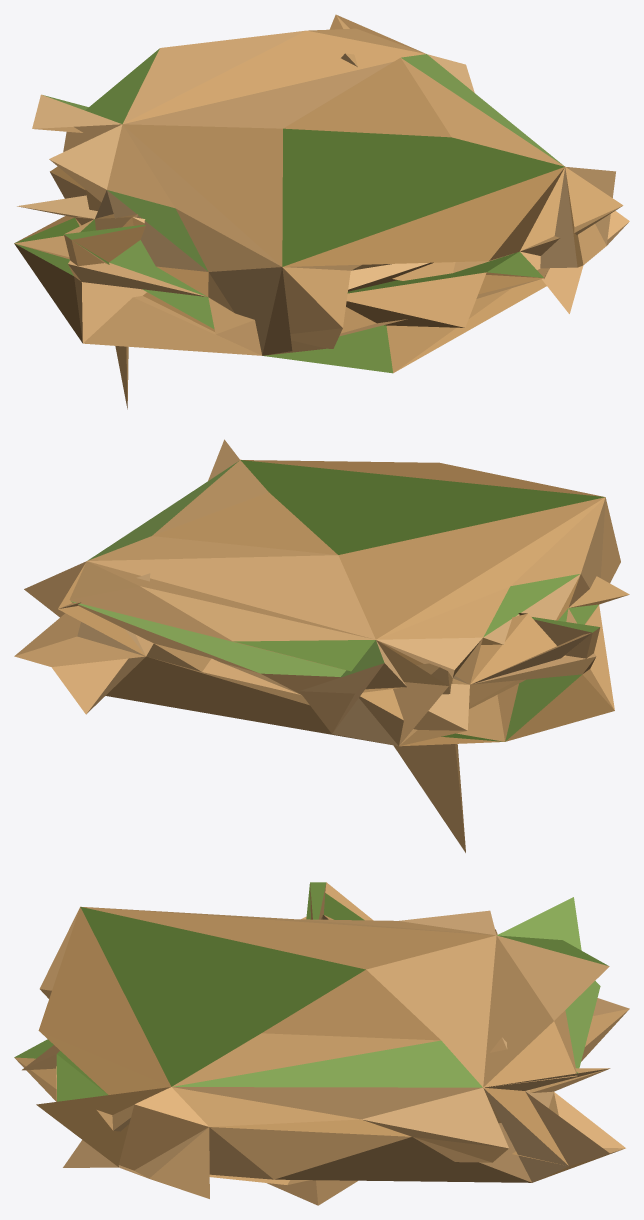
The model's file is ChunkSandstone_c.fbx.
The picture shows the model from 3 angles, top to bottom: view 1: azimuth 30°, elevation 25°; view 2: azimuth 150°, elevation 25°; view 3: azimuth 270°, elevation 25°; orthographic projection. The views are drawn at different scales.
Parts seen in each view (by area): view 1: ChunkSandstone_c; view 2: ChunkSandstone_c; view 3: ChunkSandstone_c.
Part boxes in pixels (left/top/right/bottom): ChunkSandstone_c: left=14, top=14, right=629, bottom=409; ChunkSandstone_c: left=14, top=439, right=629, bottom=852; ChunkSandstone_c: left=14, top=882, right=629, bottom=1205.
Size of what is drawn, in the model's own units: 0.2877 by 0.1486 by 0.2948.
